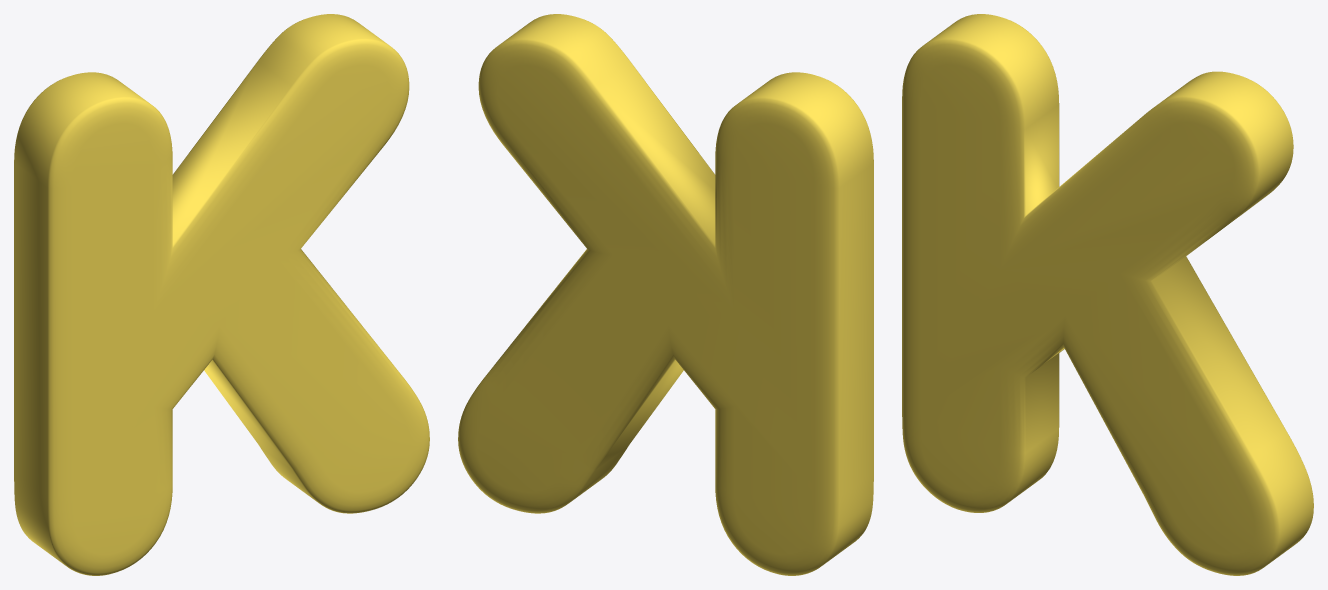
The model's file is RA_Letter_K.fbx.
The picture shows the model from 3 angles, left to right: view 1: azimuth 30°, elevation 25°; view 2: azimuth 150°, elevation 25°; view 3: azimuth 330°, elevation 25°; orthographic projection.
Parts seen in each view (by area): view 1: RA_Letter_K; view 2: RA_Letter_K; view 3: RA_Letter_K.
Boxes of the visible parts, x1,y1,x2,y2 form: RA_Letter_K: (14,14,429,575); RA_Letter_K: (458,14,873,575); RA_Letter_K: (902,14,1313,575).
Size of the model in its own units: 151 by 180 by 28.
